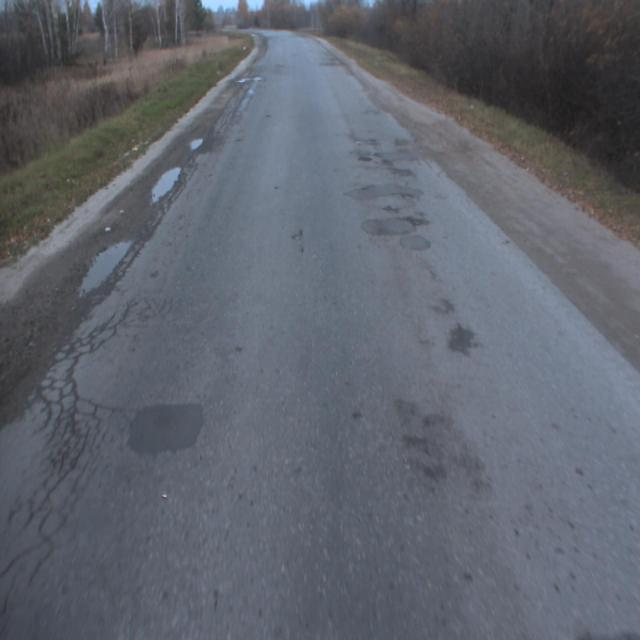road: (0, 29, 639, 639)
